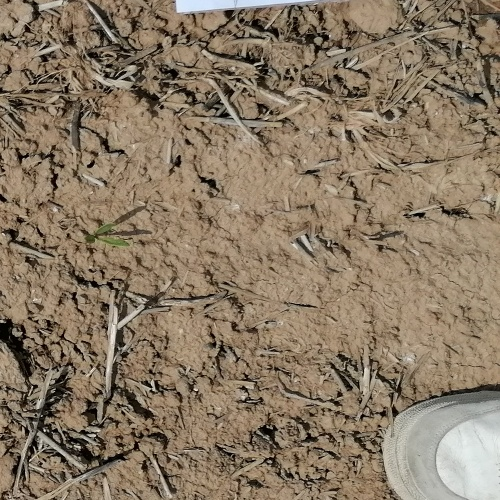beet: (88, 226, 129, 248)
